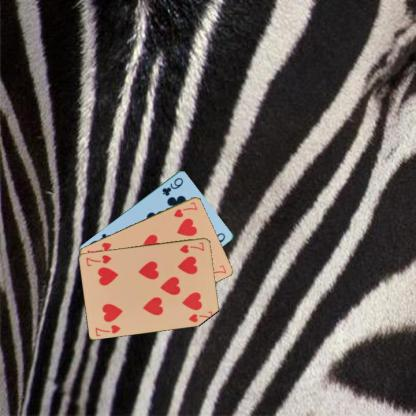7h: (171, 199, 199, 218), (92, 322, 121, 337), (177, 240, 206, 254)
9c: (160, 175, 184, 197)
